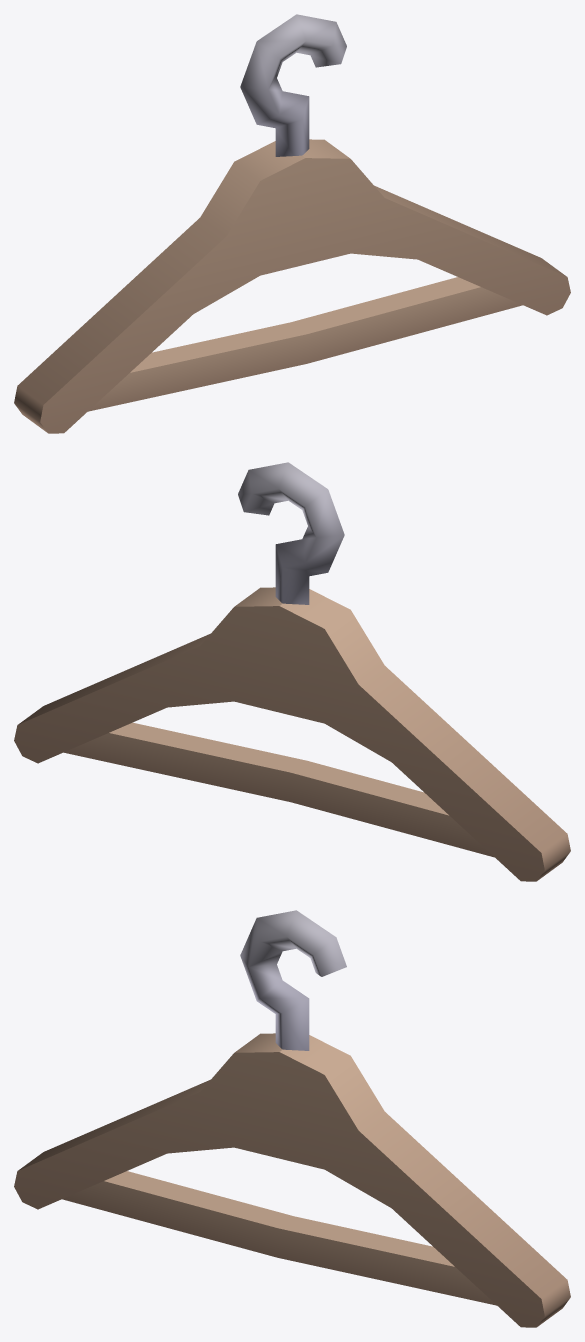
Rendered from clothing-hanger.glb.
The picture shows the model from 3 angles, top to bottom: view 1: azimuth 30°, elevation 25°; view 2: azimuth 150°, elevation 25°; view 3: azimuth 330°, elevation 25°; orthographic projection.
Visible parts, largest first — view 1: clothing-hanger; view 2: clothing-hanger; view 3: clothing-hanger.
Boxes of the visible parts, box(x1,y1,x2,y2) form: clothing-hanger: box(14, 14, 570, 433); clothing-hanger: box(14, 462, 570, 881); clothing-hanger: box(14, 910, 570, 1327).
Bounding box in the file's own units: 0.4691 × 0.2952 × 0.0425.
